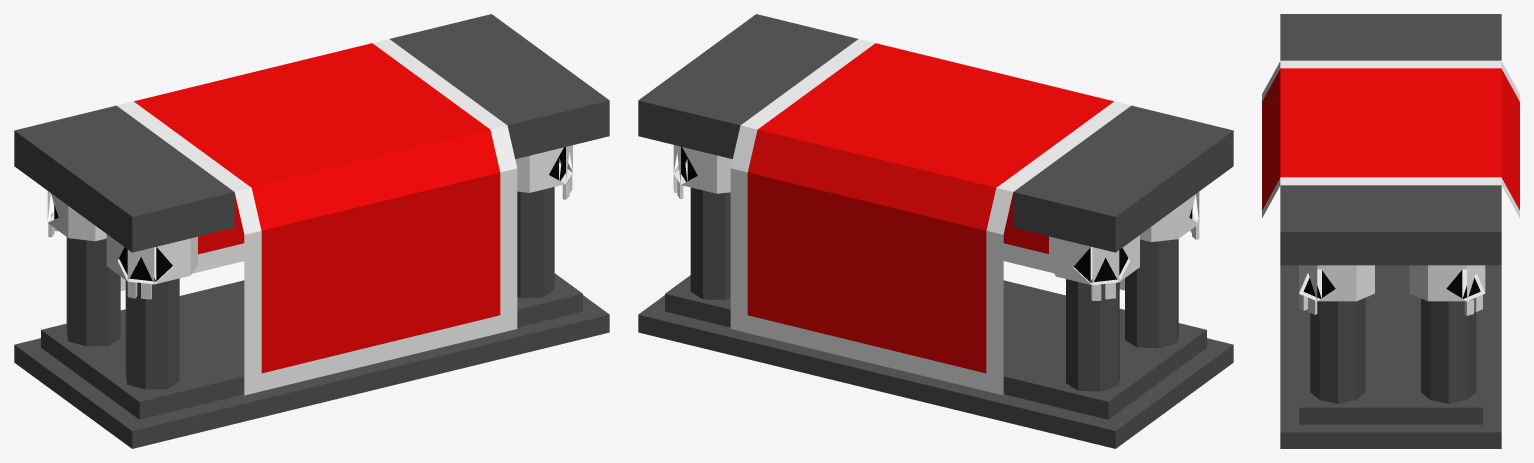
Rendered from chaosaltar.obj.
3 views of the same model, side by side, from view 1: azimuth 30°, elevation 25°; view 2: azimuth 150°, elevation 25°; view 3: azimuth 270°, elevation 25° (orthographic). The views are drawn at different scales.
Parts seen in each view (by area): view 1: chaosaltar_back; view 2: chaosaltar_back; view 3: chaosaltar_back.
Boxes of the visible parts, <box> form: chaosaltar_back: <box>14,14,609,448</box>; chaosaltar_back: <box>638,14,1233,448</box>; chaosaltar_back: <box>1262,14,1519,448</box>.
Size of the model in its own units: 2.24 by 1.04 by 1.12.
